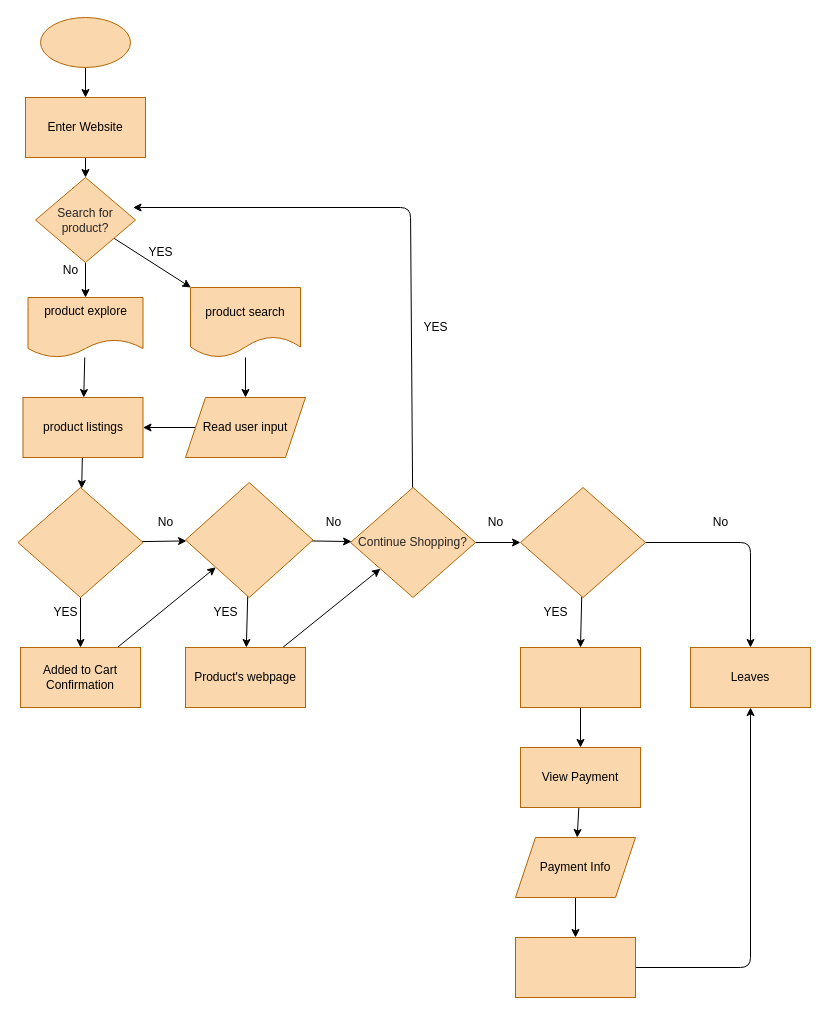
The diagram is 828 pixels wide and 1015 high, and some of its shapes have lost their labels. The centre of each missing label's shape, as x and y in pixels:
"Add item to cart?" goes at point 80,542.
"Checkout?" goes at point 583,542.
"Order confirmation & receive email" goes at point 575,967.
"Start" goes at point 85,42.
"View Cart" goes at point 580,677.
"View Specific Item?" goes at point 248,540.
